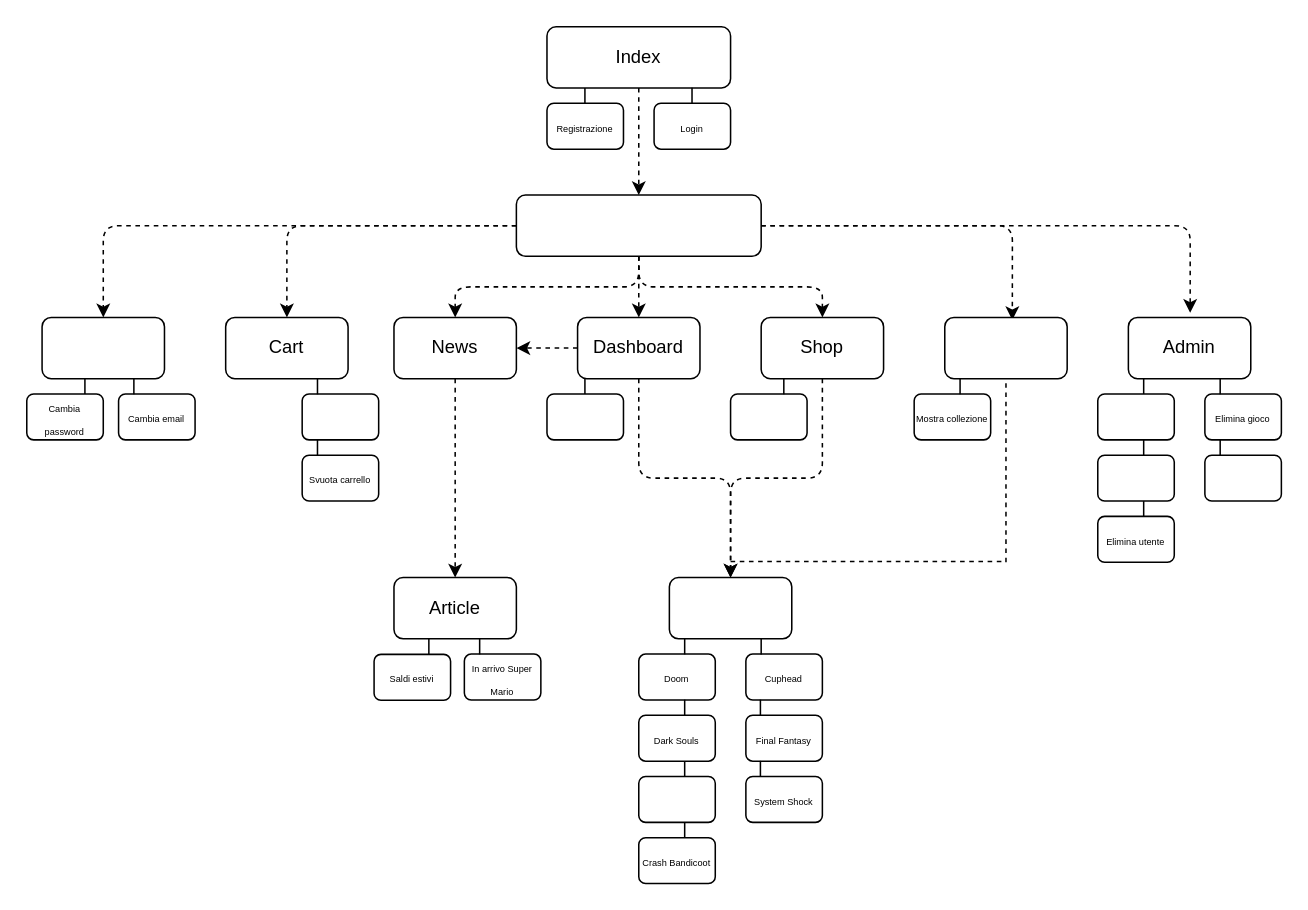
The diagram is 1308 pixels wide and 910 high, and some of its shapes have lost their labels. Each missing label, with the centre of its shape:
Aggiungi al carrello: the point at 768,416
Aggiungi articolo: the point at 1135,477
Aggiungi gioco: the point at 1135,416
App: the point at 638,225
Bioshock Infinite: the point at 676,798
Completa l'acquisto: the point at 340,416
Game: the point at 730,607
Library: the point at 1005,347
Rimuovi articolo: the point at 1242,477
Settings: the point at 102,347
Ultime uscite: the point at 584,416
